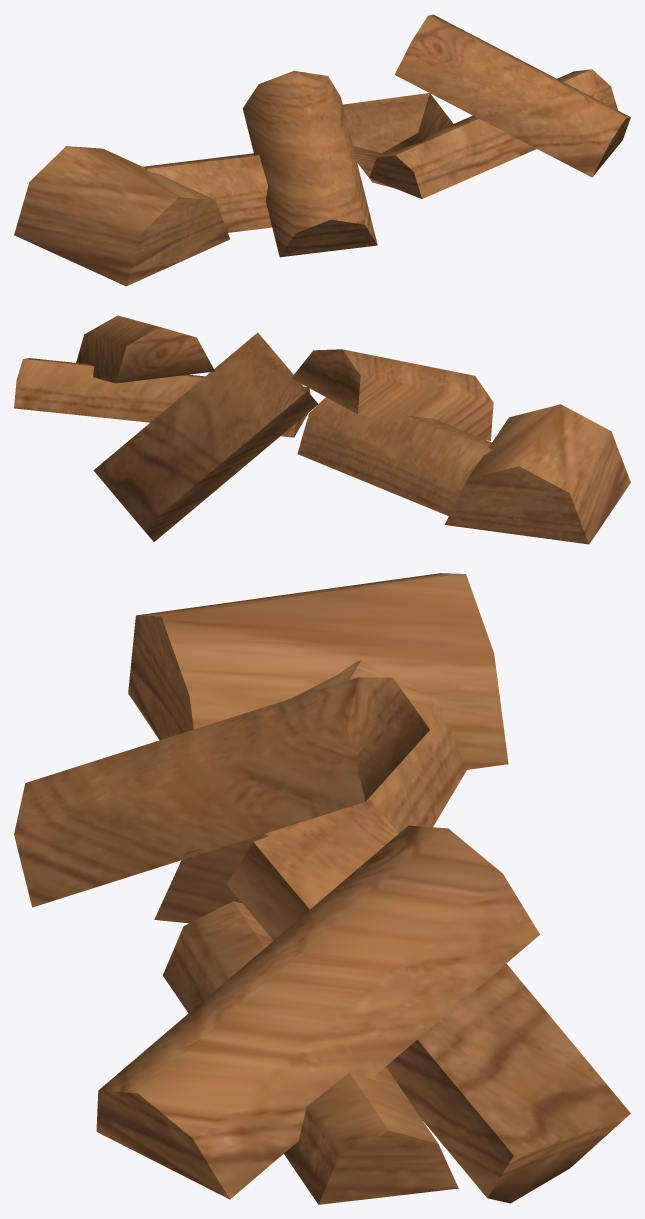
The model's file is pm-wood-chunks.glb.
The picture shows the model from 3 angles, top to bottom: view 1: azimuth 30°, elevation 25°; view 2: azimuth 150°, elevation 25°; view 3: azimuth 270°, elevation 25°; orthographic projection. The views are drawn at different scales.
Visible parts, largest first — view 1: WoodChunks; view 2: WoodChunks; view 3: WoodChunks.
Part boxes in pixels (bbox=[...]): WoodChunks: bbox=[14, 14, 630, 286]; WoodChunks: bbox=[14, 315, 630, 544]; WoodChunks: bbox=[14, 573, 630, 1204].
Size of the model in its own units: 2.76 by 0.863 by 1.29.
1 material, 1 textured.
